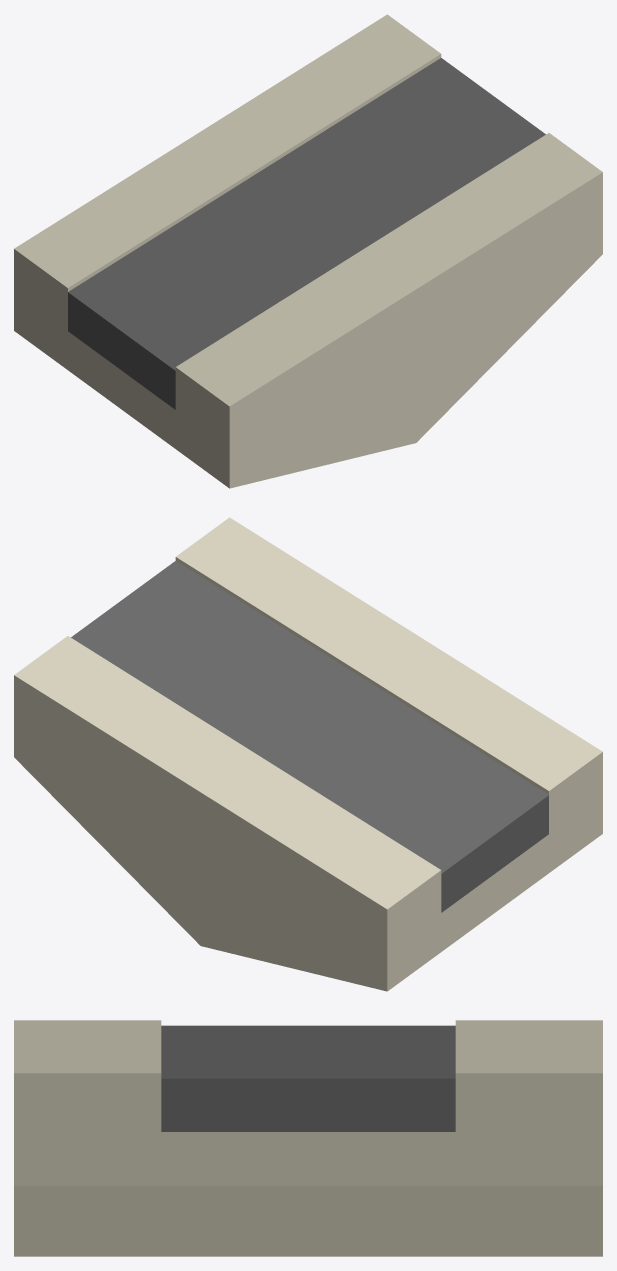
The model's file is tile014.fbx.
3 views of the same model, one above another, from view 1: azimuth 30°, elevation 25°; view 2: azimuth 150°, elevation 25°; view 3: azimuth 270°, elevation 25° (orthographic). The views are drawn at different scales.
Visible parts, largest first — view 1: tile014; view 2: tile014; view 3: tile014.
Part boxes in pixels (bbox=[...]): tile014: bbox=[14, 14, 602, 488]; tile014: bbox=[14, 517, 602, 991]; tile014: bbox=[14, 1020, 602, 1256].
Bounding box in the file's own units: 10 × 5.77 × 10.
